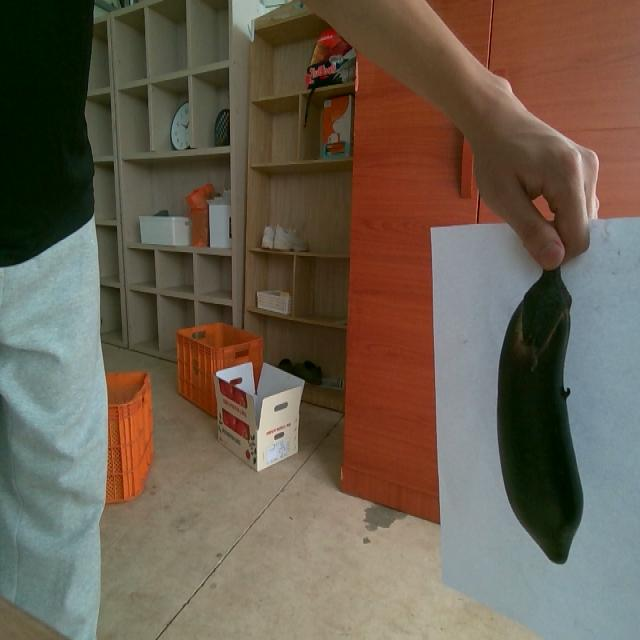Egg plant: (498, 267, 583, 563)
